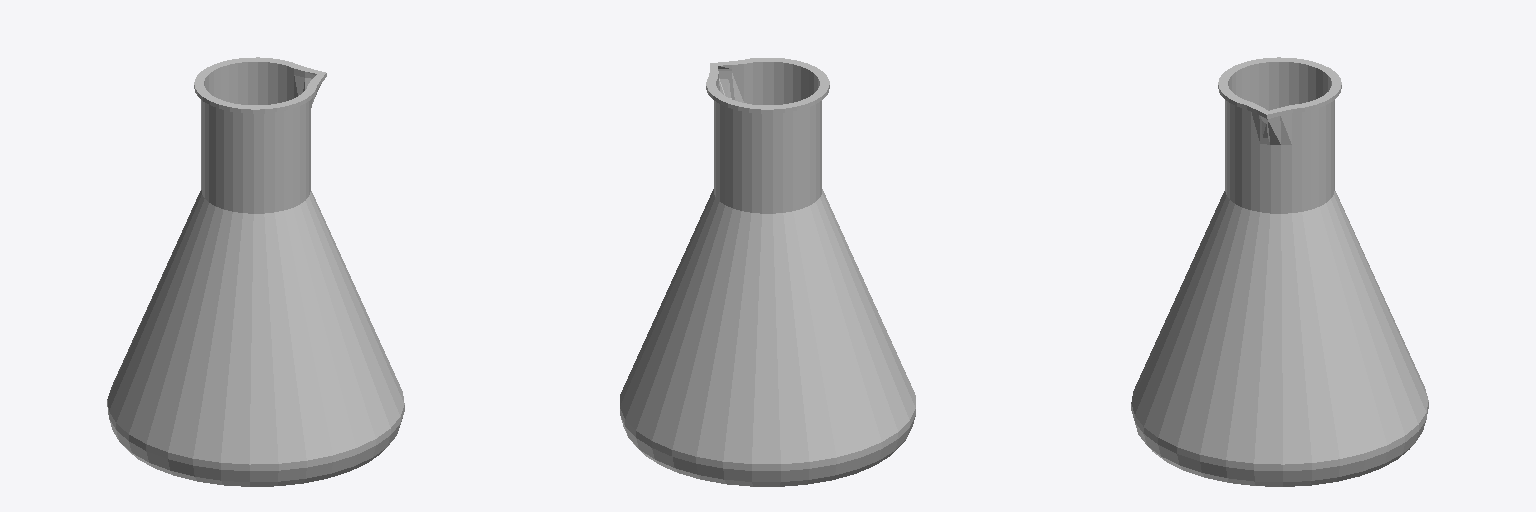
File: tubo4.obj
The picture shows the model from 3 angles: view 1: azimuth 30°, elevation 25°; view 2: azimuth 150°, elevation 25°; view 3: azimuth 270°, elevation 25°; orthographic projection.
Parts seen in each view (by area): view 1: erlenmayer_turbosquid__1_2:Mesh pasted__group10 group11; view 2: erlenmayer_turbosquid__1_2:Mesh pasted__group10 group11; view 3: erlenmayer_turbosquid__1_2:Mesh pasted__group10 group11.
Boxes of the visible parts, box(x1,y1,x2,y2) form: erlenmayer_turbosquid__1_2:Mesh pasted__group10 group11: box(107, 57, 404, 486); erlenmayer_turbosquid__1_2:Mesh pasted__group10 group11: box(620, 58, 915, 486); erlenmayer_turbosquid__1_2:Mesh pasted__group10 group11: box(1131, 57, 1428, 486).
Size of the model in its own units: 0.2232 by 0.2855 by 0.2232.